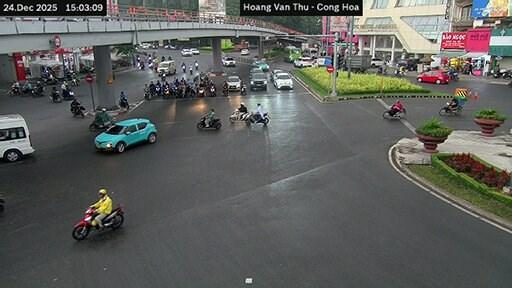motorbike: (71, 207, 99, 239), (102, 205, 122, 229), (195, 115, 220, 129), (438, 102, 461, 115), (230, 108, 250, 122), (246, 112, 268, 124), (383, 106, 405, 117), (70, 103, 85, 117), (100, 117, 114, 129), (492, 68, 511, 76), (48, 90, 60, 102), (40, 76, 57, 84), (32, 86, 44, 97), (61, 89, 73, 99), (19, 86, 32, 94), (9, 85, 19, 94), (118, 98, 127, 108), (394, 68, 403, 76), (163, 86, 169, 98), (448, 72, 457, 80), (197, 85, 204, 95), (208, 85, 215, 95), (90, 122, 98, 130), (377, 66, 386, 73), (70, 78, 79, 85), (144, 89, 150, 99), (240, 84, 246, 94), (0, 194, 3, 211), (223, 88, 227, 95), (188, 66, 192, 73), (506, 81, 511, 86), (140, 62, 144, 68), (182, 64, 185, 72), (195, 62, 198, 68)
